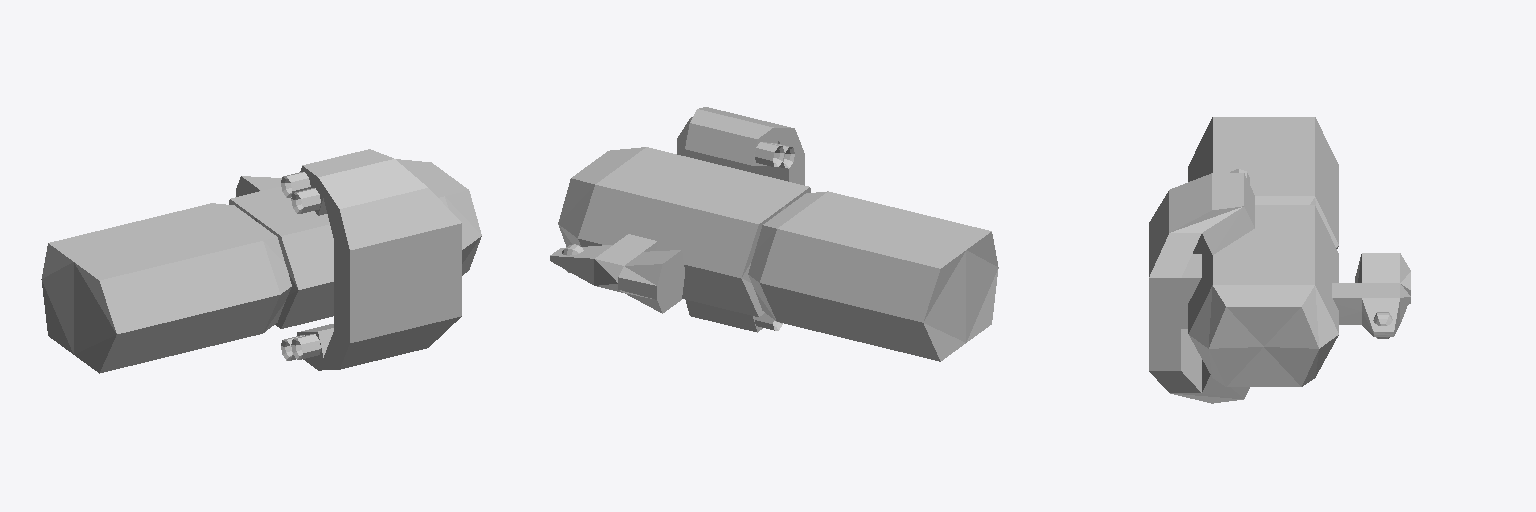
Rendered from gudgeon.obj.
3 views of the same model, side by side, from view 1: azimuth 30°, elevation 25°; view 2: azimuth 150°, elevation 25°; view 3: azimuth 270°, elevation 25° (orthographic).
Visible parts, largest first — view 1: main_Cube; view 2: main_Cube; view 3: main_Cube.
Boxes of the visible parts, box(x1,y1,x2,y2) form: main_Cube: box(41, 149, 481, 373); main_Cube: box(550, 107, 998, 361); main_Cube: box(1149, 117, 1410, 403).
Size of the model in its own units: 8.57 by 4.16 by 5.12.